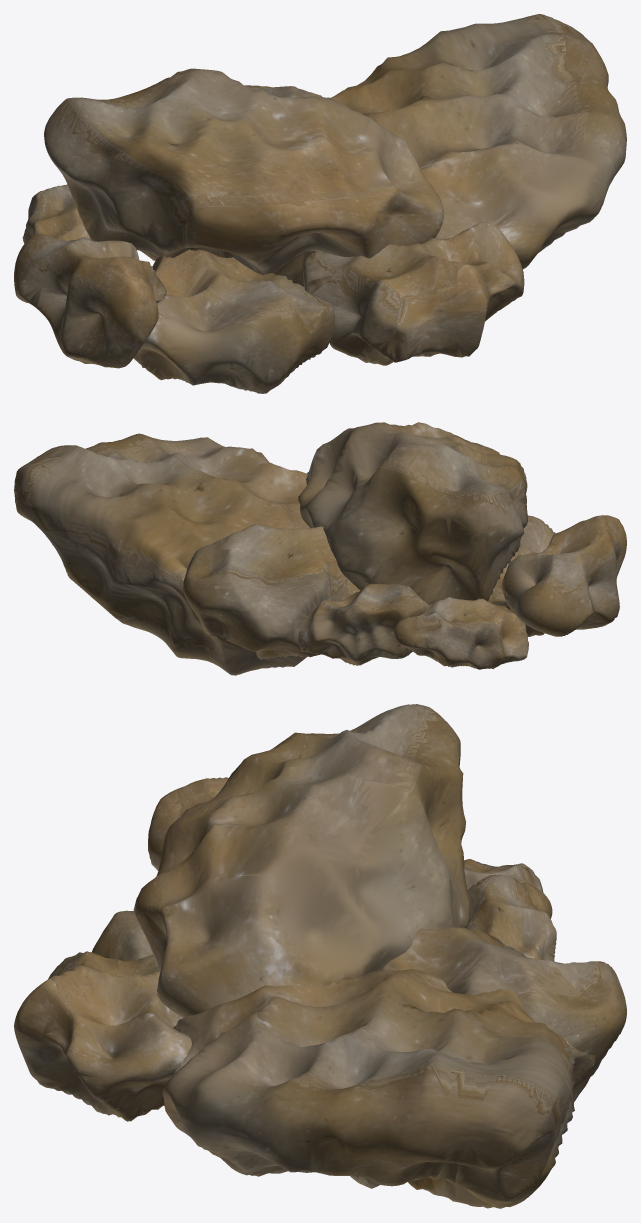
File: Isla.fbx
The picture shows the model from 3 angles, top to bottom: view 1: azimuth 30°, elevation 25°; view 2: azimuth 150°, elevation 25°; view 3: azimuth 270°, elevation 25°; orthographic projection. The views are drawn at different scales.
Parts seen in each view (by area): view 1: Roca.003; view 2: Roca.003; view 3: Roca.003.
Part boxes in pixels (x1=…): Roca.003: x1=14, y1=14, x2=626, y2=393; Roca.003: x1=14, y1=422, x2=626, y2=675; Roca.003: x1=14, y1=704, x2=626, y2=1208.
Size of the model in its own units: 2225 by 936 by 1579.
